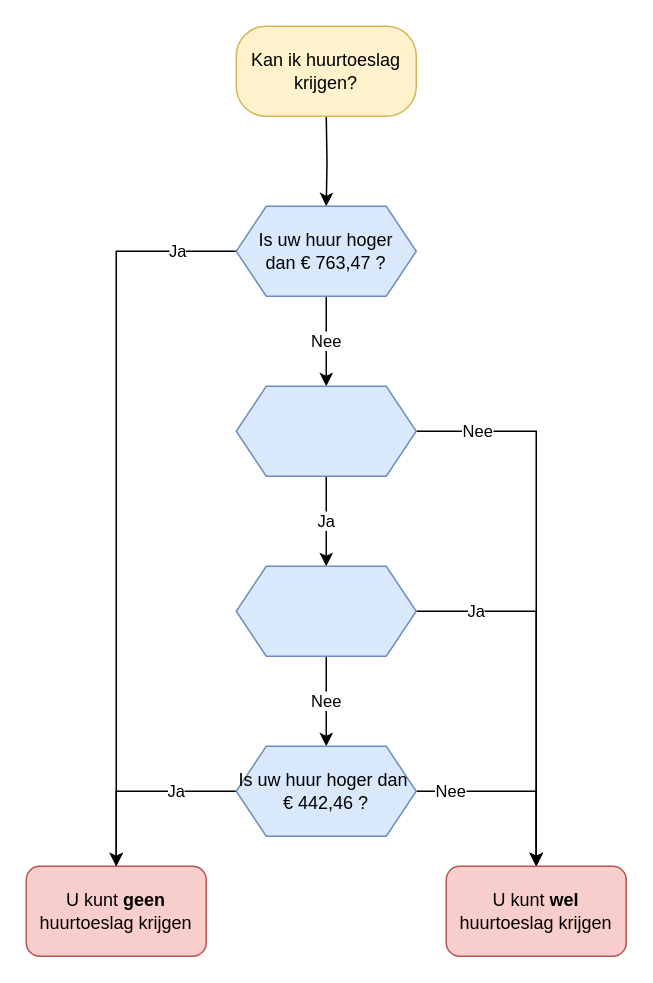
Some shapes in this 653 by 983 pixel diagram are drawn without their labels. Each missing label, with the centre of its shape:
Heeft u een kind dat bij u woont?: the point at 325,610
Zijn alle bewoners jonger dan 23 jaar?: the point at 325,430
